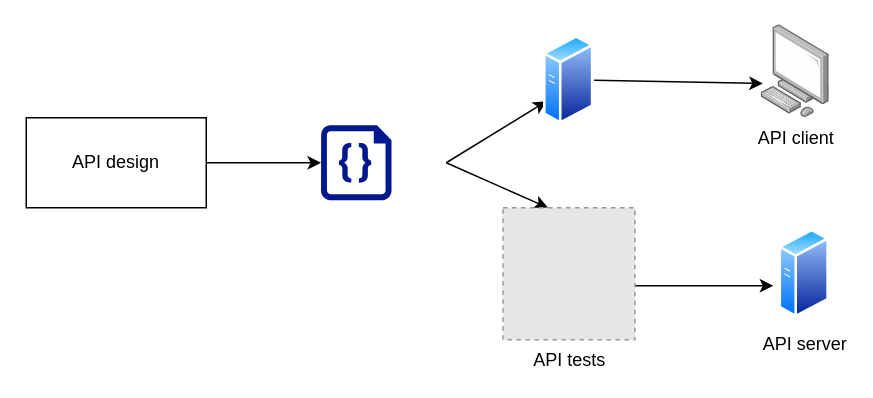
This 873x398 diagram has some shape labels left out. Grey dashed boxes stand in for pictures. Here are the shapes that lost their labels. From the top down, the centre of each, then its label:
At point 568,79: "Mock server".
At point 355,162: "API specification".
